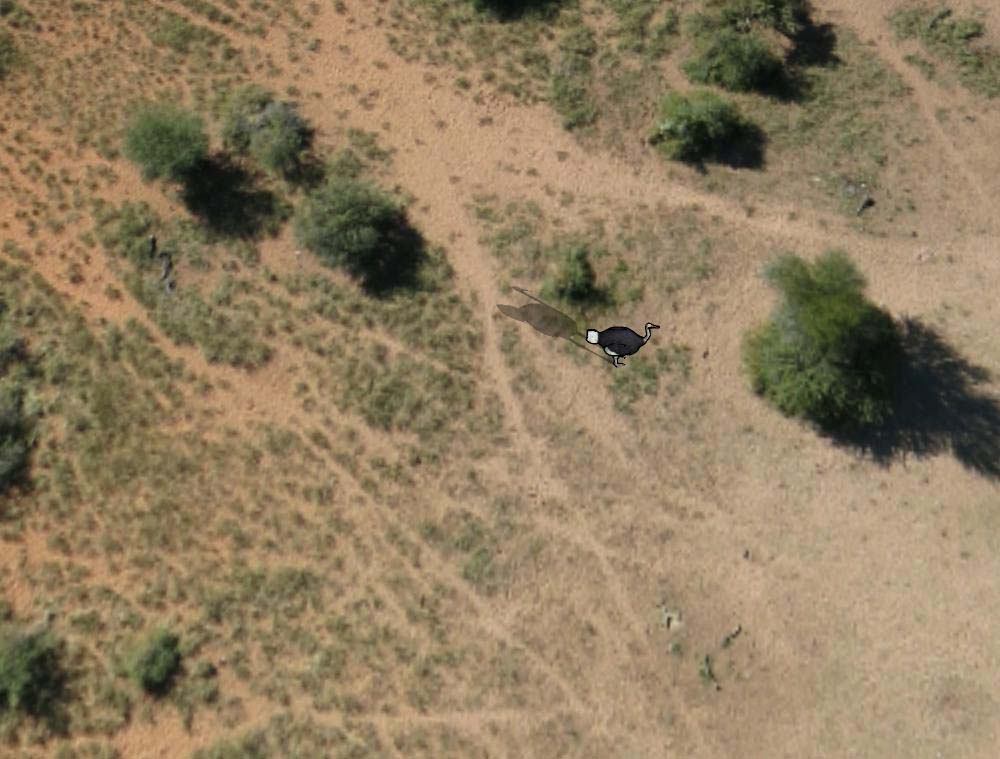ostrich: (587, 322, 664, 365)
